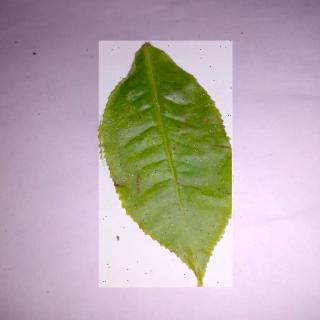Bird Eye Spot: (100, 42, 235, 290)
